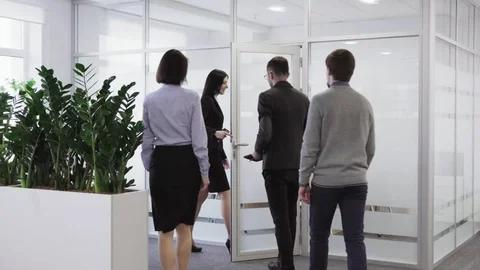jacket: (200, 94, 227, 163)
long sleeve shirt: (139, 83, 211, 175)
skirt: (147, 144, 203, 233), (204, 163, 231, 193)
sweater: (298, 82, 376, 185), (254, 81, 310, 172)
trousers: (308, 180, 368, 270), (264, 170, 300, 265)
